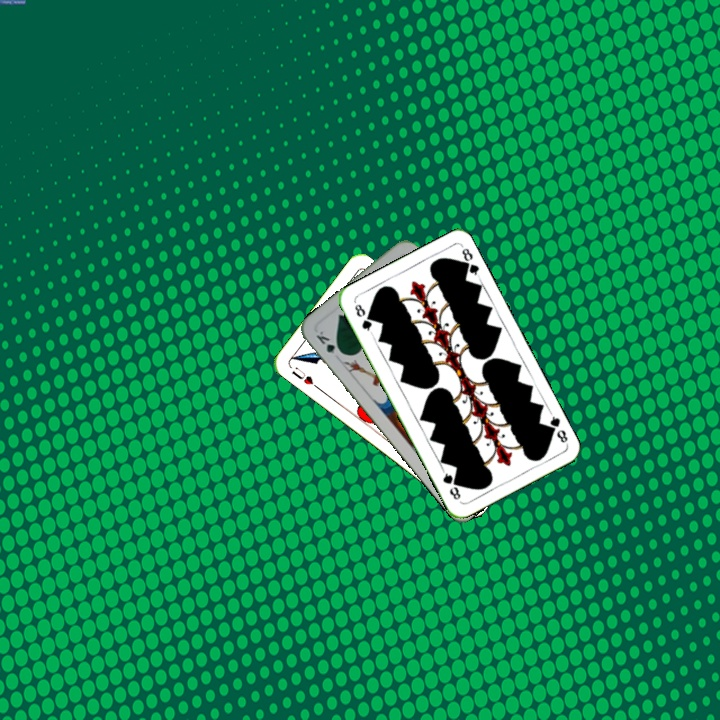G8: (543, 409, 571, 446), (350, 300, 375, 333)
GK: (312, 327, 346, 358)
HU: (287, 363, 321, 391)
